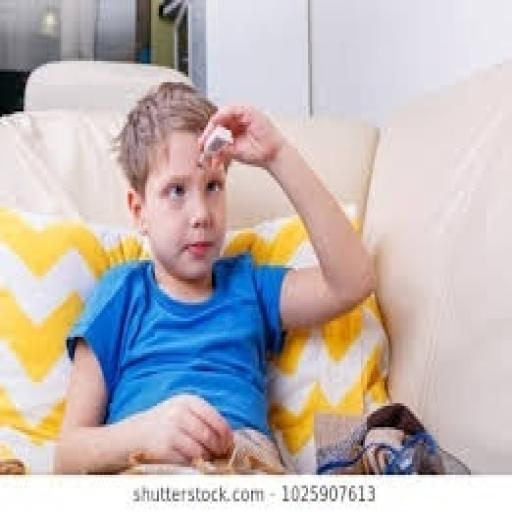sleeping: (53, 77, 379, 475)
